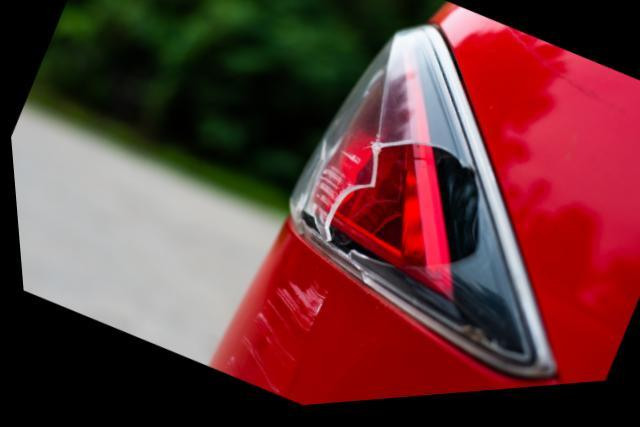lamp broken: (283, 31, 548, 387)
scratch: (215, 282, 327, 400)
